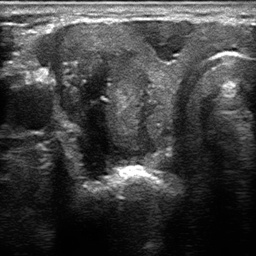mass: (62, 53, 155, 175)
